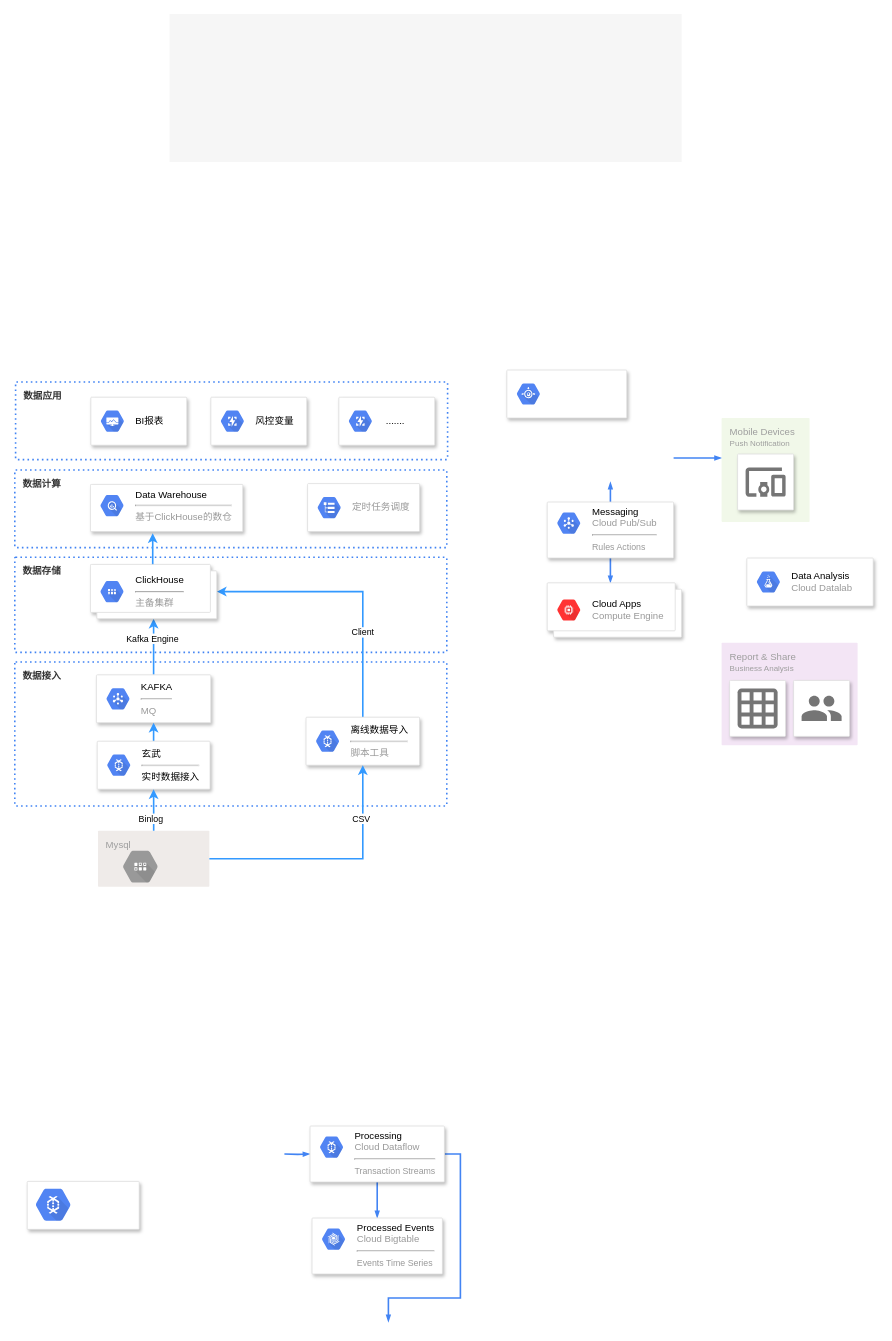
This 892x1341 diagram has some shape labels left out. The shapes that lost their labels are listed below. From the top down, each one's centre as x and y in pixels, then its label:
At pixel 425 88: "Google Cloud Platform".
At pixel 52 1204: "Cloud Dataflow".
